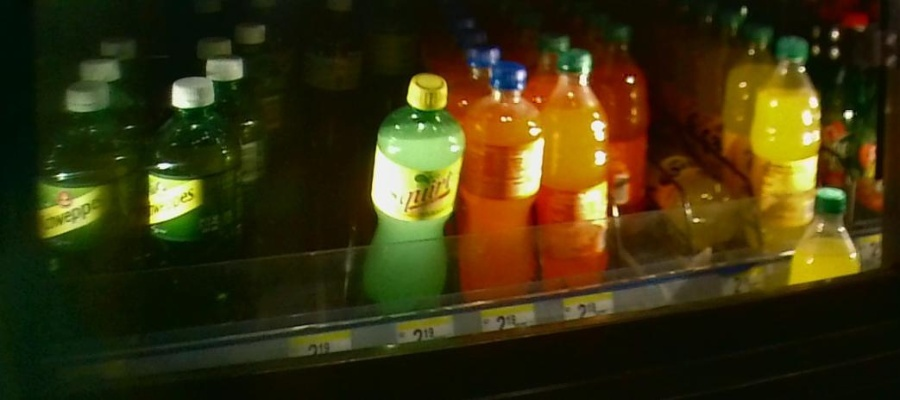bottle: (34, 73, 138, 343), (143, 62, 243, 341), (369, 63, 464, 323), (469, 61, 547, 314), (747, 28, 822, 260), (551, 48, 609, 301), (605, 30, 652, 239), (671, 150, 734, 267)
